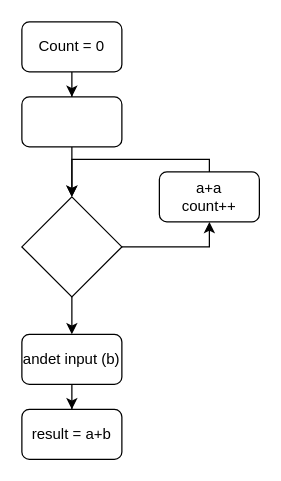
Some shapes in this 281 by 481 pixel diagram are drawn without their labels. Each missing label, with the box of its shape:
a = a * 10?: (21, 196, 122, 297)
først input (a): (21, 96, 122, 147)
